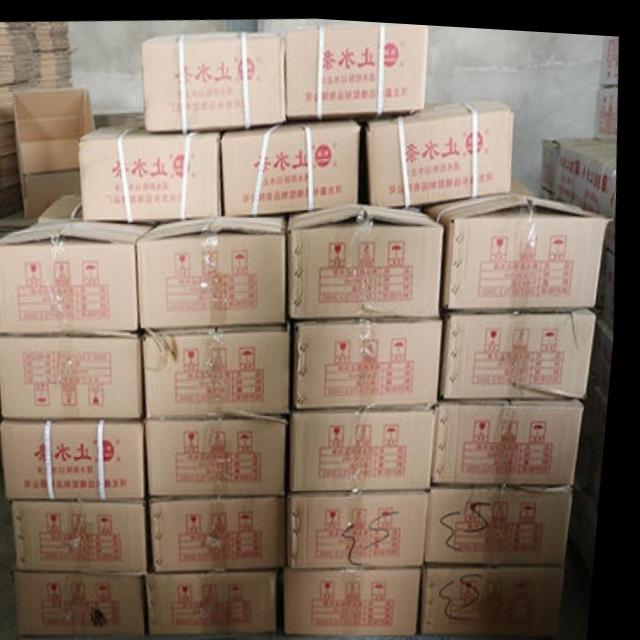box: (422, 185, 611, 303), (0, 219, 159, 334), (291, 199, 449, 314), (141, 211, 291, 324), (367, 92, 514, 202), (141, 30, 287, 131), (445, 303, 599, 394), (223, 114, 362, 214), (149, 322, 296, 416), (286, 19, 428, 116), (82, 121, 223, 218), (300, 312, 446, 404), (1, 330, 149, 418), (298, 401, 444, 486), (441, 394, 590, 476), (153, 411, 295, 494), (6, 419, 154, 498), (435, 479, 581, 558), (296, 483, 436, 563), (158, 493, 295, 571), (15, 88, 96, 217), (430, 558, 572, 628), (20, 498, 156, 571), (292, 562, 431, 630), (156, 563, 289, 633), (24, 571, 154, 634)
